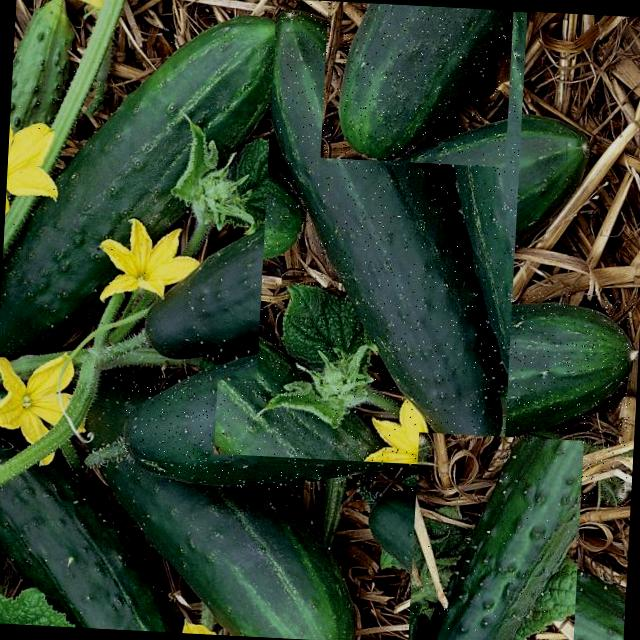Cucumber: (258, 6, 517, 432), (4, 0, 278, 365), (91, 448, 362, 640), (337, 1, 519, 163)
